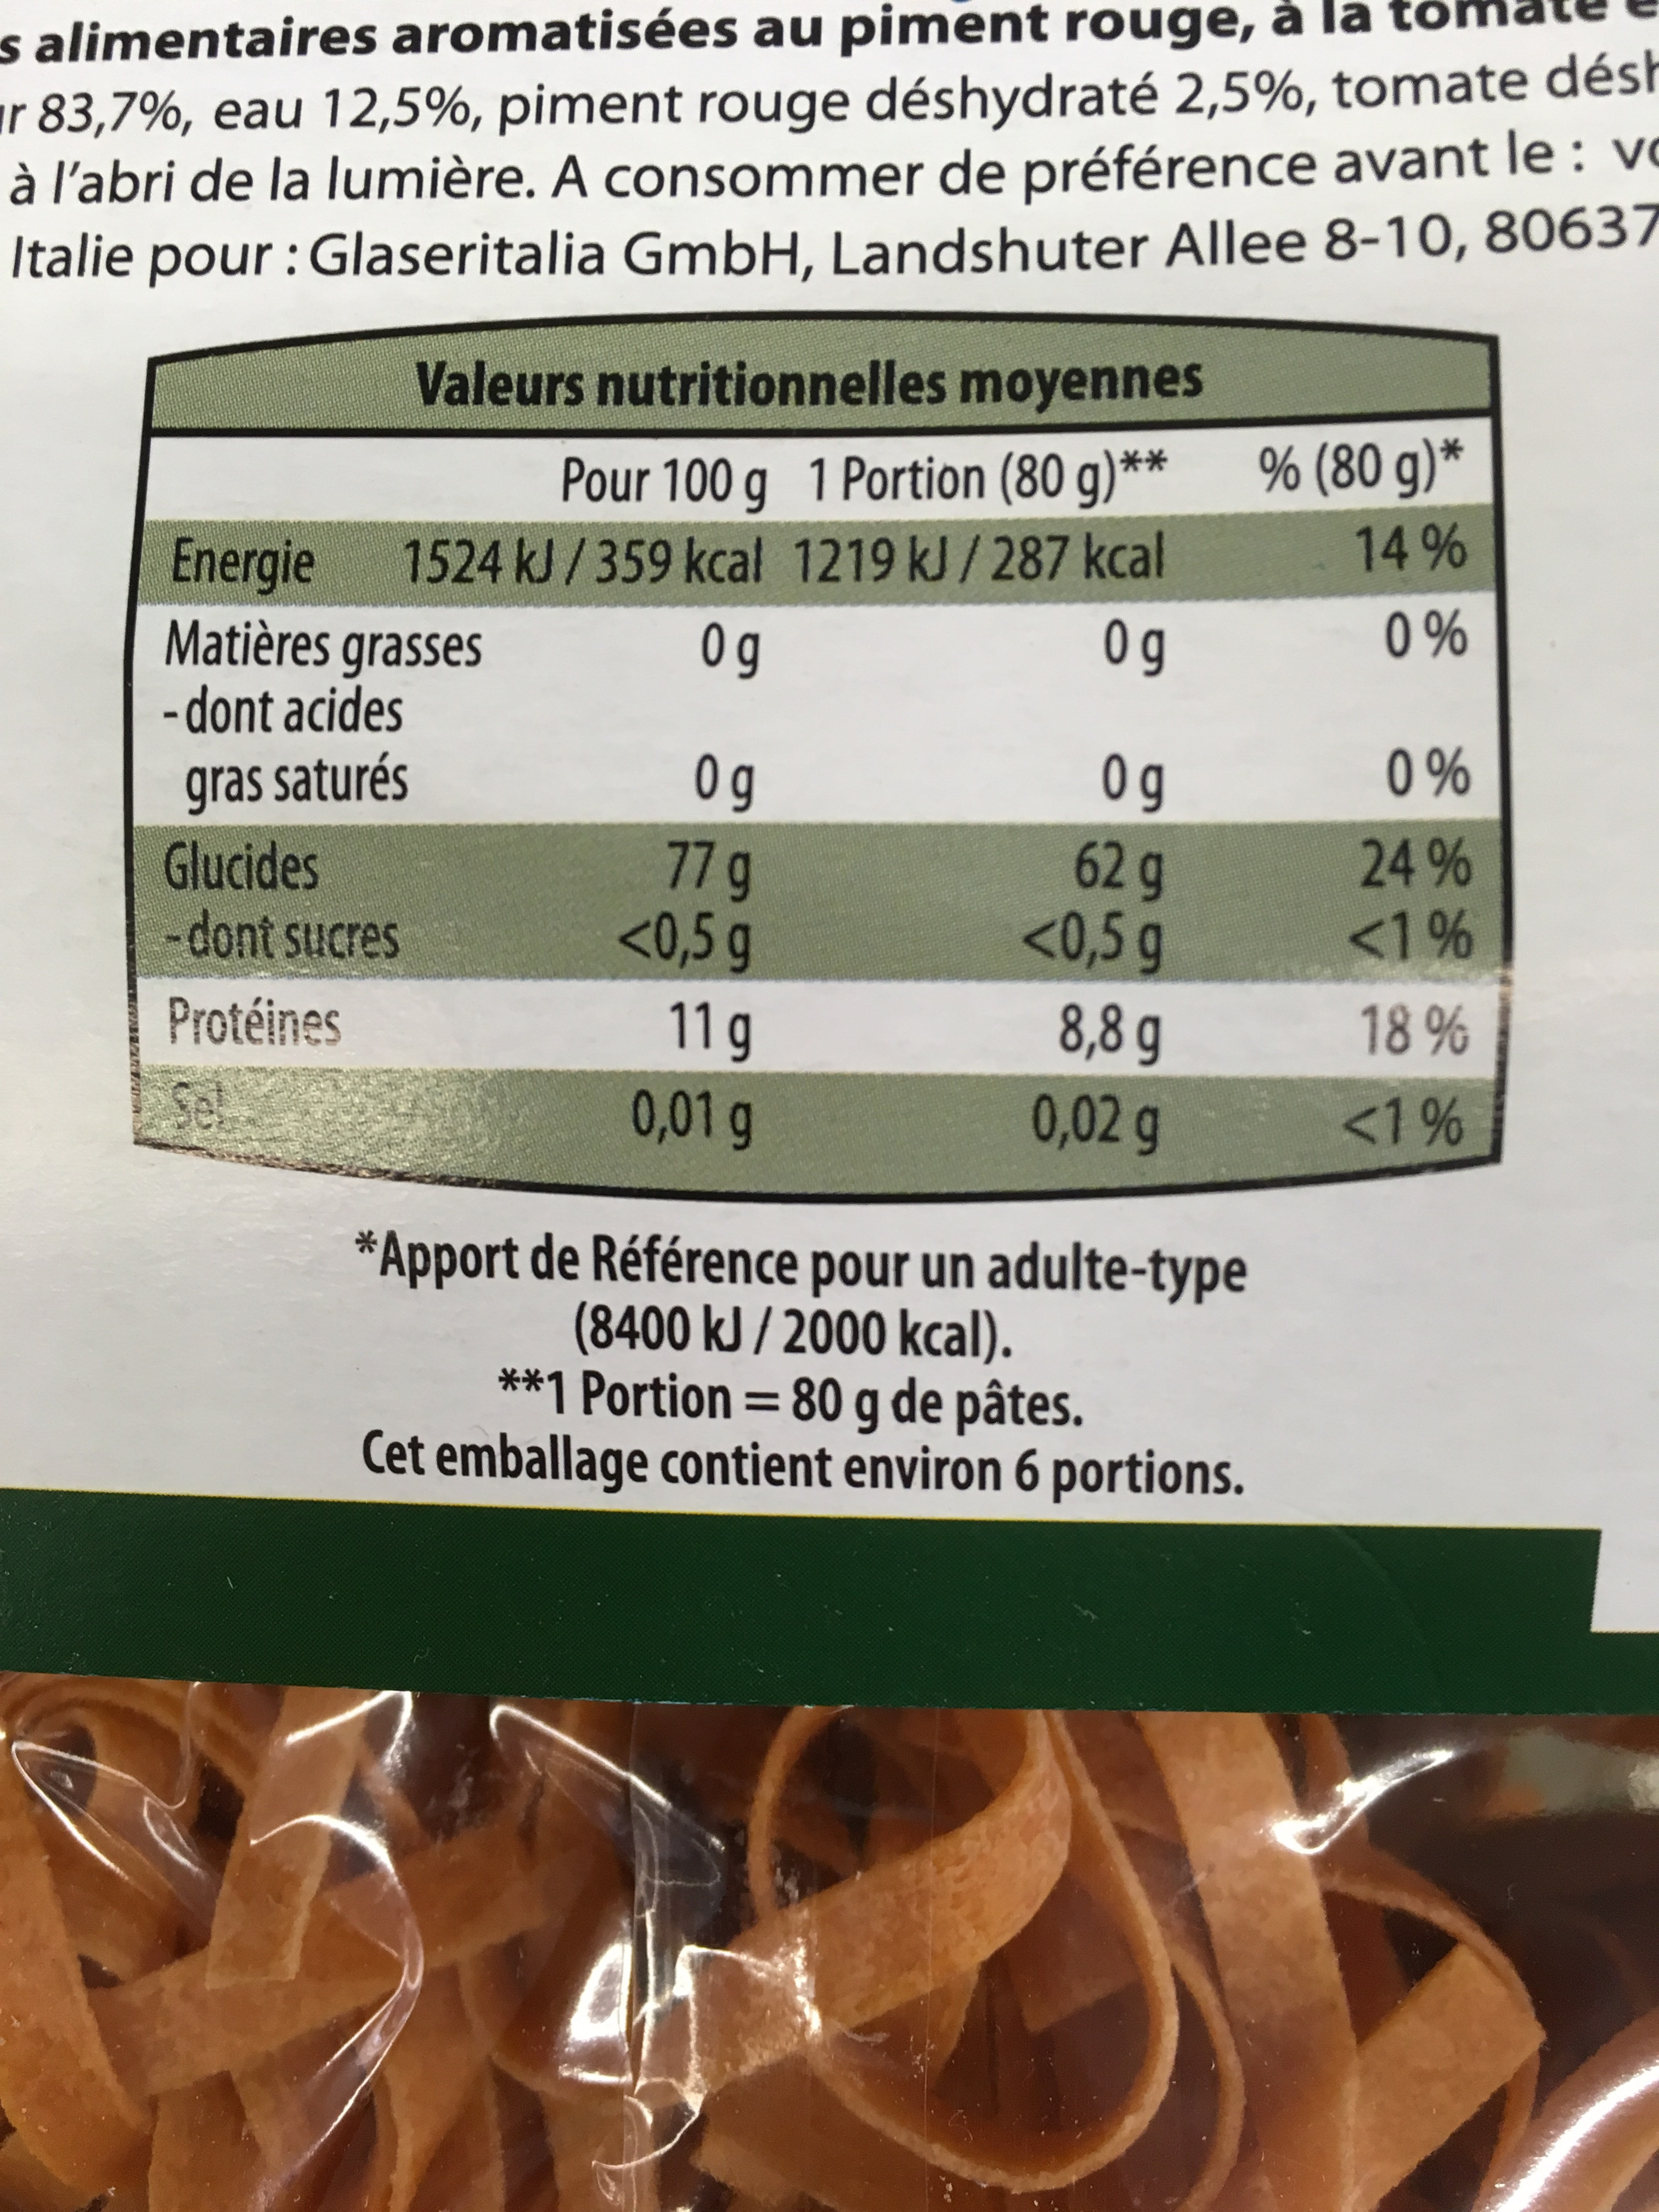column: (148, 415, 762, 1204), (786, 416, 1180, 1207), (1251, 420, 1483, 1207)
table: (113, 305, 1507, 1207)
